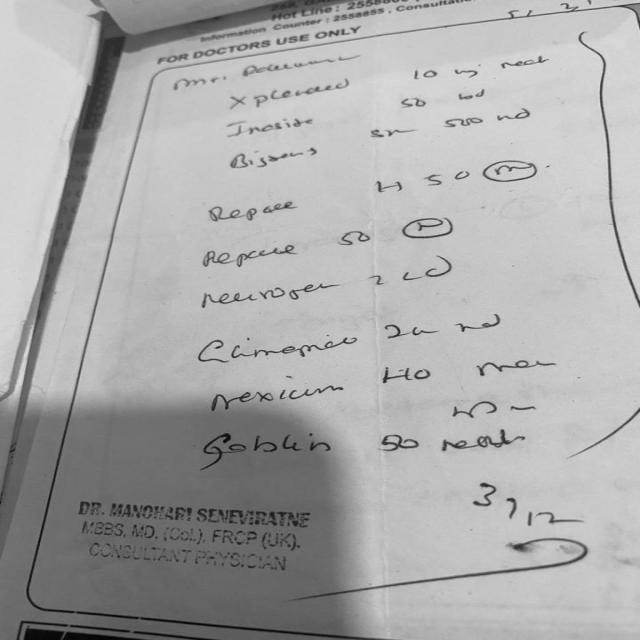Prescription: (202, 151, 542, 229), (206, 344, 559, 417), (223, 102, 544, 176), (193, 302, 507, 372), (226, 49, 554, 115), (196, 248, 467, 314), (220, 83, 490, 144), (197, 210, 460, 272), (201, 418, 525, 464)
